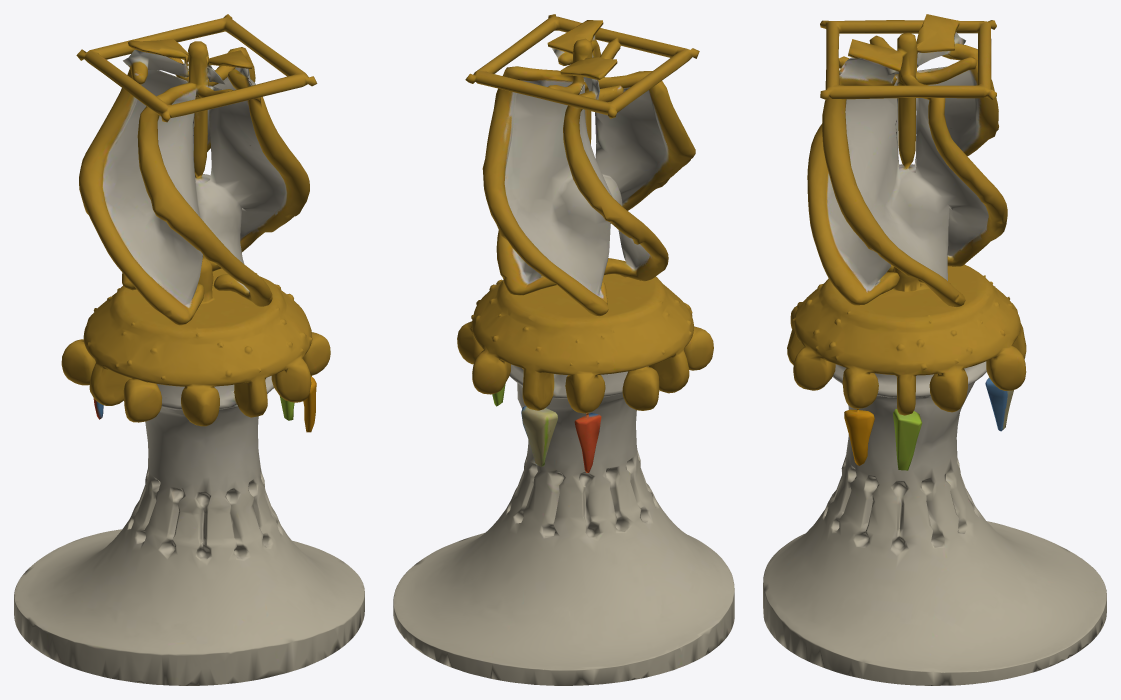
File: giantWindmill.fbx
3 views of the same model, side by side, from view 1: azimuth 30°, elevation 25°; view 2: azimuth 150°, elevation 25°; view 3: azimuth 270°, elevation 25° (orthographic). The views are drawn at different scales.
Visible parts, largest first — view 1: tripo_node_4444f76f-1e17-4b2c-86e0-25712cd7cbaf, giantWindmill_blade; view 2: tripo_node_4444f76f-1e17-4b2c-86e0-25712cd7cbaf, giantWindmill_blade; view 3: tripo_node_4444f76f-1e17-4b2c-86e0-25712cd7cbaf, giantWindmill_blade.
Part boxes in pixels (bbox=[...]): tripo_node_4444f76f-1e17-4b2c-86e0-25712cd7cbaf: bbox=[14, 314, 364, 685]; giantWindmill_blade: bbox=[76, 14, 317, 391]; tripo_node_4444f76f-1e17-4b2c-86e0-25712cd7cbaf: bbox=[393, 302, 734, 685]; giantWindmill_blade: bbox=[465, 14, 708, 372]; tripo_node_4444f76f-1e17-4b2c-86e0-25712cd7cbaf: bbox=[763, 303, 1106, 685]; giantWindmill_blade: bbox=[791, 14, 1019, 374].
Size of the model in its own units: 53.98 by 97.8 by 53.
Materials: 1 (1 with a texture image).
